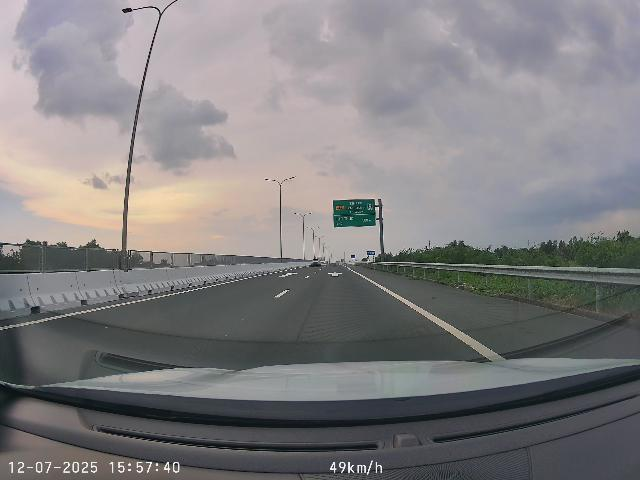438-ket-thuc-duong-cao-toc: (367, 203, 373, 211)
